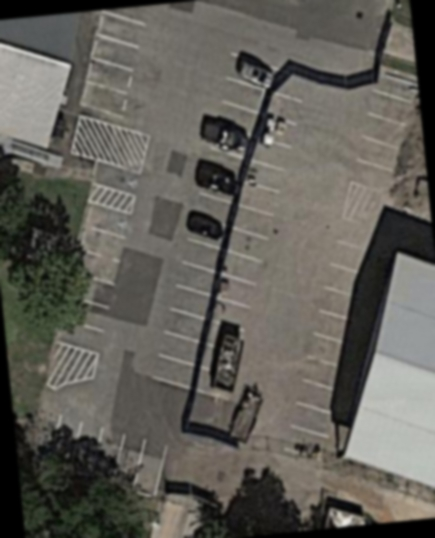parkingspot: (149, 51, 307, 394), (281, 236, 383, 465), (209, 137, 296, 335), (54, 200, 135, 358), (46, 411, 171, 500), (78, 5, 154, 124), (348, 86, 419, 197), (90, 159, 145, 200)
